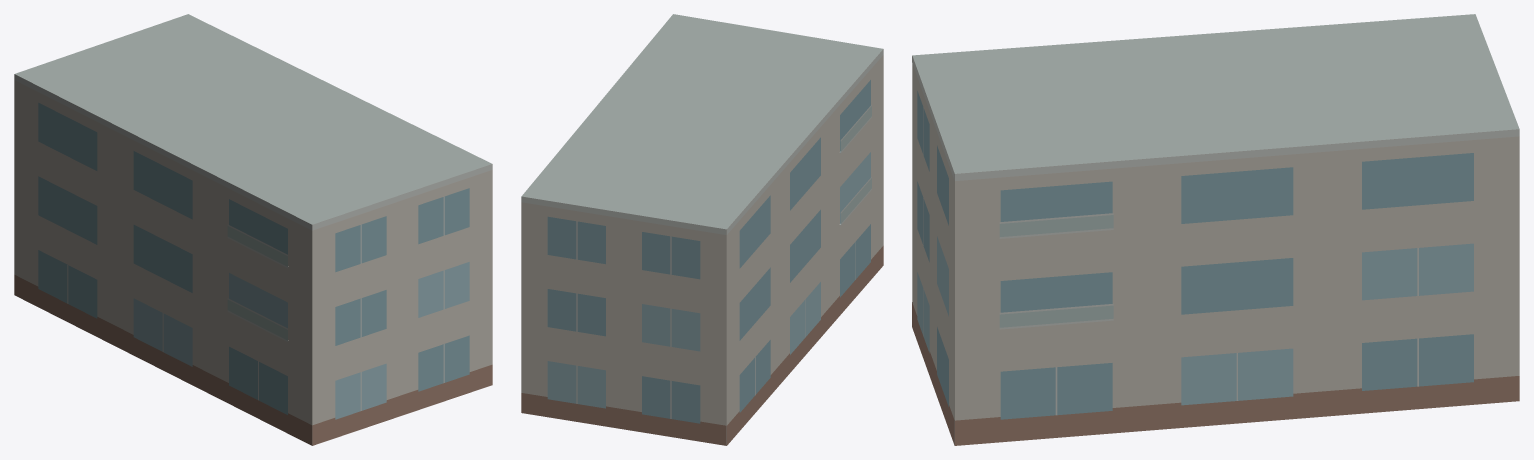
The model's file is survey-upis-32720368.glb.
3 renders of one model, left to right at view 1: azimuth 30°, elevation 25°; view 2: azimuth 150°, elevation 25°; view 3: azimuth 270°, elevation 25°, orthographic. The views are drawn at different scales.
Visible parts, largest first — view 1: survey-upis-32720368.tmp; view 2: survey-upis-32720368.tmp; view 3: survey-upis-32720368.tmp.
Part boxes in pixels (x1=…): survey-upis-32720368.tmp: x1=14, y1=14, x2=492, y2=445; survey-upis-32720368.tmp: x1=521, y1=14, x2=883, y2=445; survey-upis-32720368.tmp: x1=912, y1=14, x2=1519, y2=445.
Bounding box in the file's own units: 11.55 × 9.15 × 18.54.
